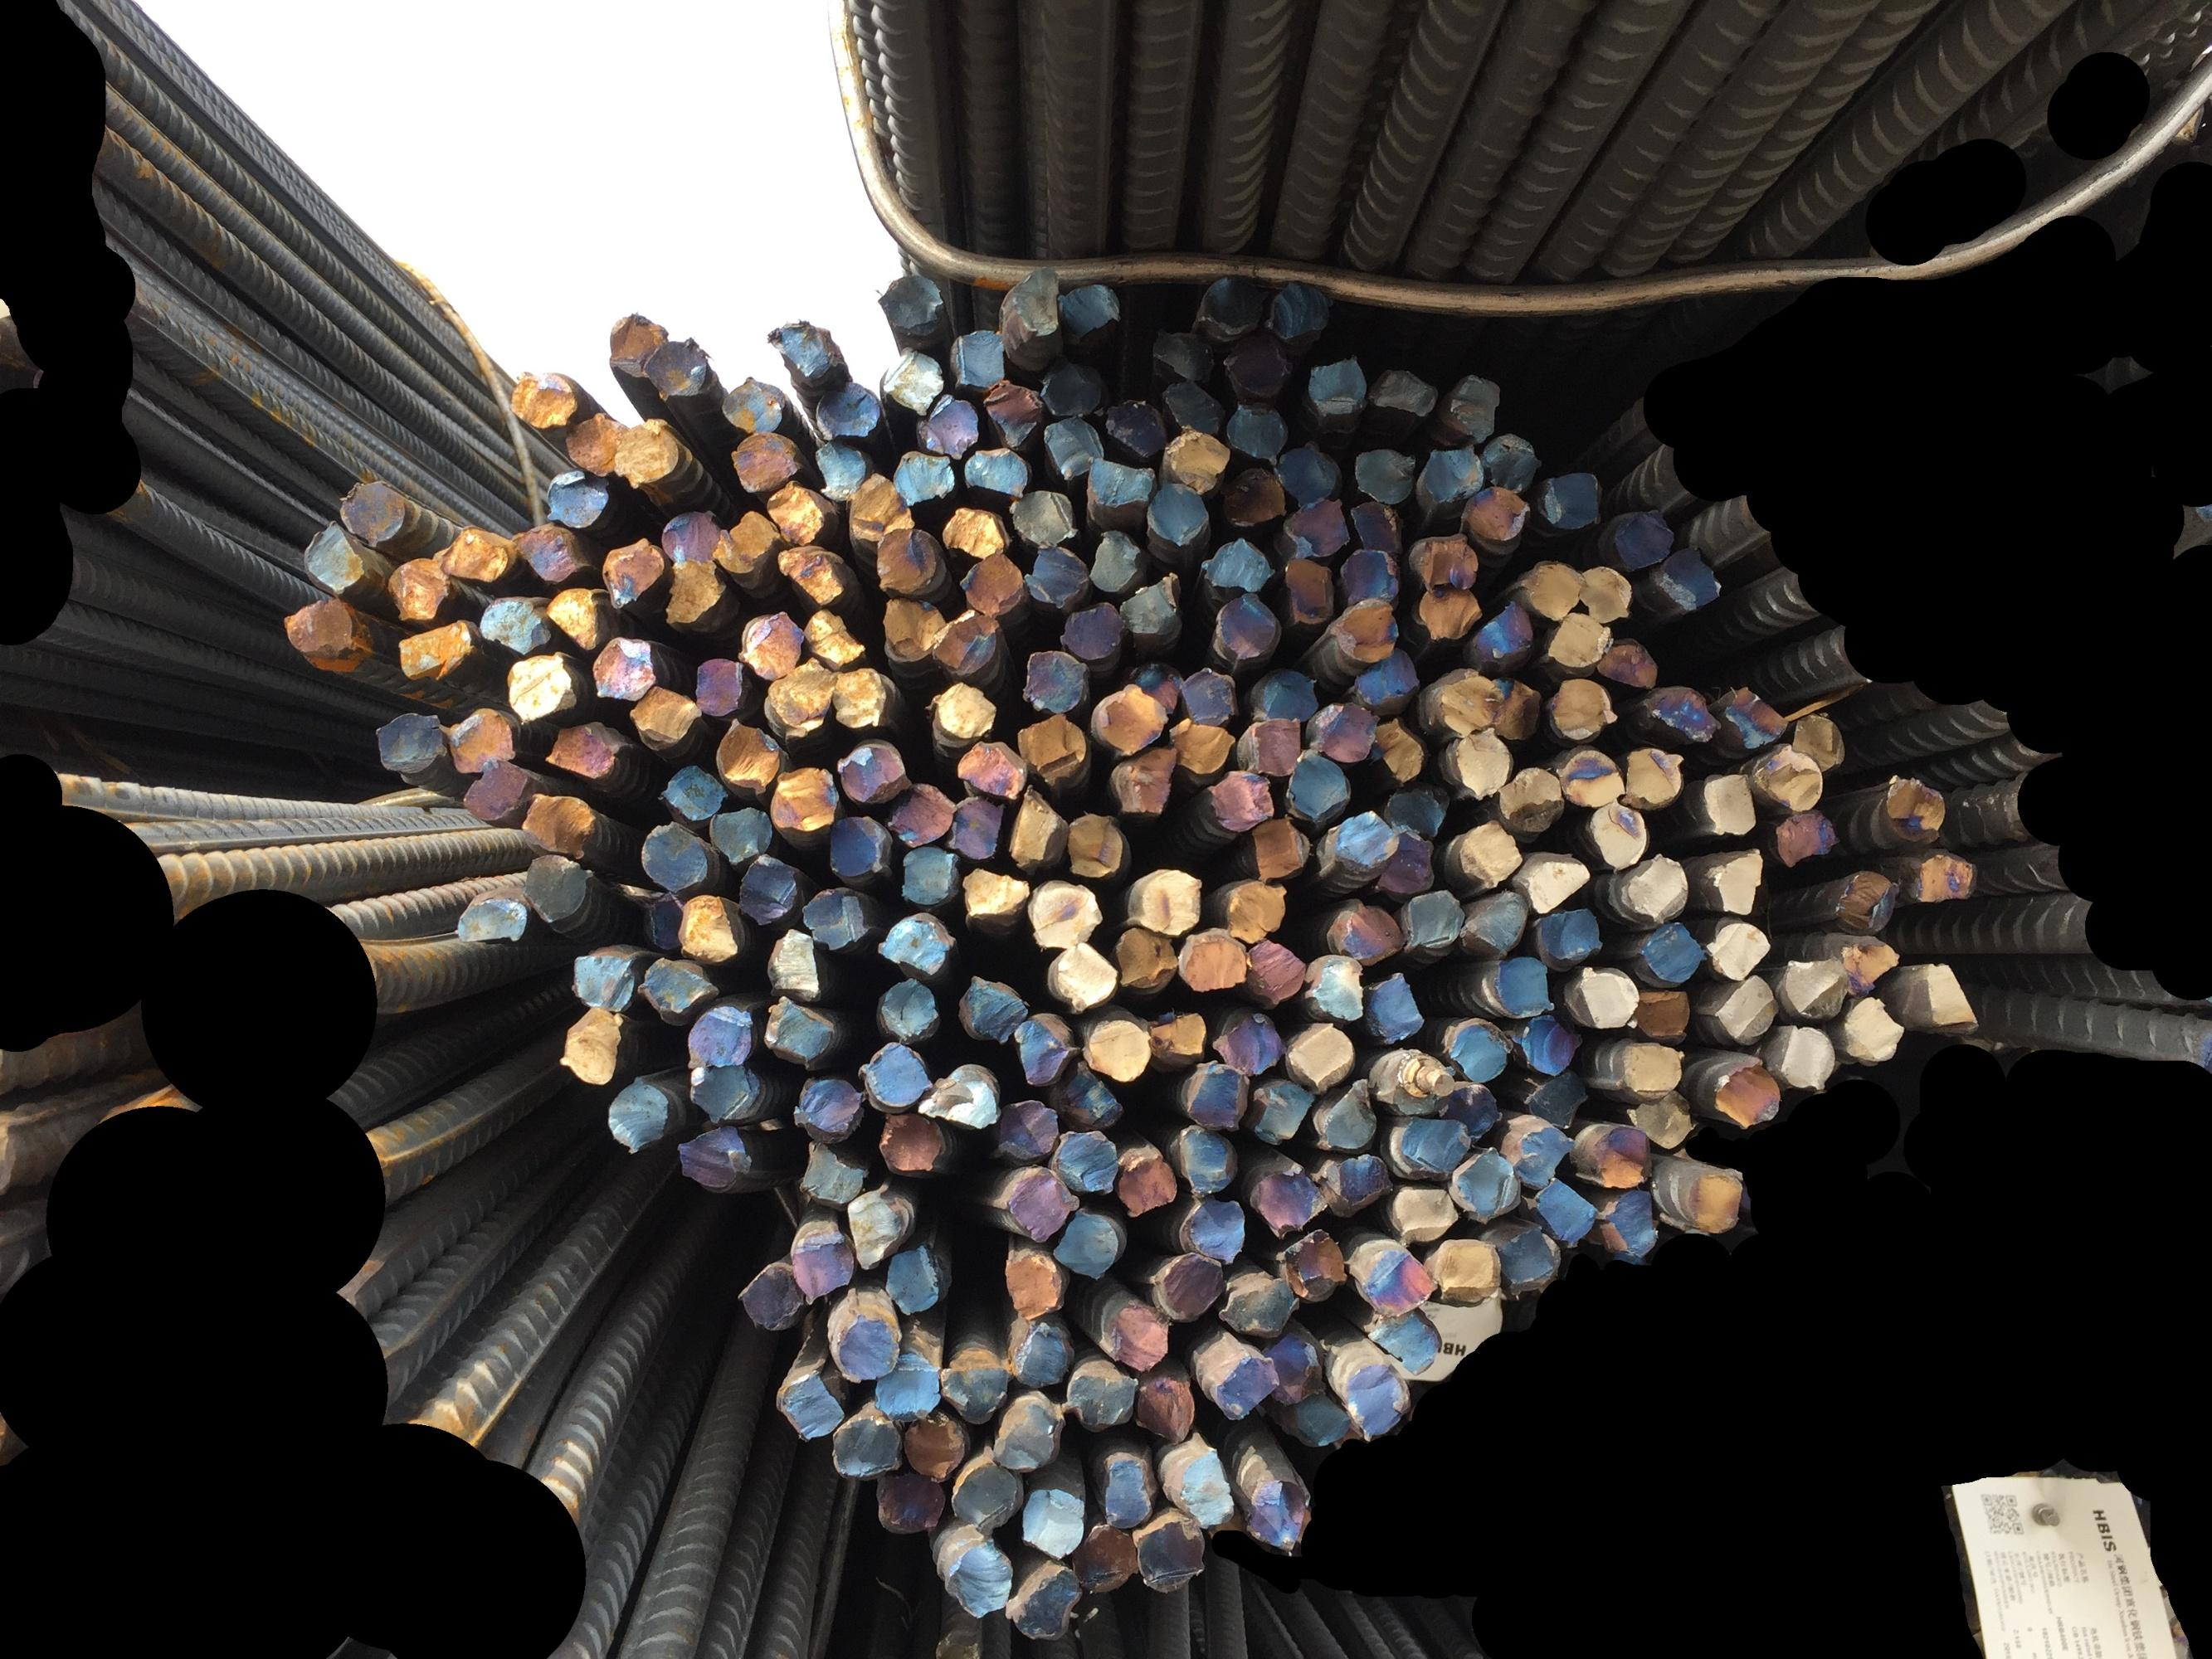bar: (762, 657, 837, 746), (762, 993, 844, 1072), (1246, 1155, 1328, 1234), (941, 1535, 1013, 1622), (1339, 1356, 1410, 1443), (636, 951, 718, 1026), (281, 596, 366, 667), (1001, 1164, 1077, 1243), (1016, 711, 1091, 791), (875, 906, 959, 978), (856, 1037, 933, 1114), (396, 617, 479, 687), (1354, 1243, 1435, 1314), (919, 1061, 1002, 1129), (845, 1183, 910, 1270), (640, 819, 716, 892), (950, 1455, 1023, 1532), (1048, 1056, 1124, 1129), (676, 1124, 755, 1195), (736, 1253, 807, 1331), (990, 1392, 1062, 1471), (830, 1302, 899, 1382), (605, 1072, 673, 1154), (525, 854, 598, 929), (612, 416, 685, 491), (502, 648, 575, 723), (300, 518, 371, 594), (774, 1364, 845, 1441), (1009, 1561, 1079, 1640), (1147, 1251, 1225, 1321), (1454, 1147, 1523, 1225), (664, 556, 732, 636), (713, 718, 781, 798), (790, 1220, 854, 1304), (687, 1065, 777, 1124), (1063, 1358, 1137, 1431), (628, 685, 702, 756), (1276, 1227, 1347, 1302), (558, 1009, 628, 1086), (929, 608, 1006, 678), (1377, 1047, 1454, 1117), (835, 739, 913, 807), (940, 1345, 1008, 1424), (1138, 1513, 1204, 1593), (1218, 1272, 1299, 1338), (1313, 1150, 1393, 1216), (776, 544, 858, 608), (1639, 680, 1720, 744), (1095, 1446, 1157, 1530), (1171, 1443, 1234, 1527), (1356, 1310, 1440, 1373), (1028, 877, 1102, 948), (1210, 1006, 1283, 1077), (711, 509, 781, 584), (884, 1241, 953, 1316), (1710, 1053, 1780, 1127), (762, 925, 830, 1002), (1494, 1222, 1562, 1298), (519, 791, 598, 857), (1133, 1364, 1199, 1443), (544, 718, 624, 782), (431, 525, 518, 584), (1388, 1115, 1469, 1178), (793, 1072, 865, 1143), (1053, 1208, 1124, 1279), (1208, 1349, 1279, 1420), (336, 479, 410, 549), (1009, 786, 1070, 870), (1433, 1236, 1503, 1309), (1332, 896, 1405, 965), (373, 709, 448, 777), (800, 884, 875, 951), (1070, 1521, 1138, 1596), (1102, 1298, 1170, 1373), (1750, 742, 1825, 810), (763, 479, 840, 545), (1013, 1011, 1079, 1087), (1914, 960, 1980, 1037), (1245, 1471, 1307, 1551), (685, 1000, 757, 1070), (1130, 864, 1201, 934), (1619, 854, 1689, 925), (1877, 774, 1947, 845), (873, 1351, 941, 1424), (845, 472, 913, 545), (1023, 538, 1091, 612), (1046, 943, 1119, 1011), (1098, 681, 1166, 755), (1213, 591, 1281, 664), (1680, 1162, 1747, 1237), (767, 321, 845, 383), (446, 704, 516, 774), (959, 972, 1028, 1042), (1170, 1124, 1239, 1194), (770, 765, 838, 836), (1182, 1058, 1250, 1129), (1285, 1019, 1353, 1091), (1440, 1014, 1511, 1082), (462, 756, 535, 823), (1285, 748, 1351, 821), (1325, 809, 1398, 875), (514, 521, 591, 584), (607, 310, 669, 387), (643, 338, 713, 406), (736, 610, 804, 680), (676, 894, 744, 964), (570, 945, 640, 1012), (887, 777, 955, 847), (912, 392, 980, 462), (873, 528, 943, 596), (1084, 1011, 1152, 1080), (1178, 1194, 1246, 1263), (1454, 819, 1522, 889), (1710, 976, 1778, 1046), (1778, 953, 1848, 1021), (903, 1410, 969, 1481), (1110, 744, 1177, 816), (873, 1471, 947, 1535), (1262, 1330, 1327, 1403), (1314, 1075, 1379, 1148), (737, 852, 800, 927), (1598, 1188, 1661, 1263), (507, 369, 584, 430), (798, 1140, 866, 1208), (1546, 674, 1614, 742), (383, 554, 450, 624), (830, 666, 899, 732), (830, 1415, 899, 1481), (879, 1112, 948, 1178), (877, 272, 947, 338), (1020, 647, 1089, 713), (1004, 265, 1062, 345), (1020, 1486, 1084, 1558), (1250, 1075, 1314, 1147), (1429, 666, 1501, 730), (1565, 964, 1637, 1028), (1633, 918, 1705, 983), (1837, 993, 1902, 1065), (603, 537, 666, 610), (1002, 1246, 1065, 1319), (1532, 906, 1607, 967), (880, 598, 947, 666), (1051, 1127, 1117, 1195), (1222, 878, 1288, 946), (542, 465, 612, 530), (657, 762, 727, 826), (1008, 1316, 1072, 1385), (1449, 725, 1513, 795), (1520, 849, 1590, 913), (880, 345, 943, 416), (1222, 333, 1293, 396), (953, 739, 1027, 800), (1116, 1143, 1177, 1216), (1121, 570, 1182, 643), (1776, 1023, 1837, 1096), (983, 375, 1042, 450), (877, 976, 943, 1042), (1163, 425, 1229, 491), (1265, 277, 1332, 343), (591, 636, 659, 701), (959, 552, 1027, 617), (1178, 929, 1246, 993), (1145, 483, 1210, 551), (1332, 596, 1400, 660), (1539, 465, 1604, 533), (1520, 1066, 1588, 1131), (1834, 870, 1902, 934), (1658, 542, 1720, 612), (1499, 763, 1562, 833), (1532, 1176, 1595, 1246), (1625, 1087, 1694, 1150), (1039, 354, 1110, 415), (1067, 809, 1128, 880), (1367, 359, 1438, 420), (478, 594, 551, 653), (727, 432, 800, 491), (1443, 369, 1503, 443), (1829, 932, 1902, 992), (1208, 767, 1274, 831), (1374, 829, 1440, 894), (1419, 444, 1483, 511), (1722, 681, 1787, 748), (1462, 890, 1527, 957), (1508, 1124, 1574, 1188), (1705, 915, 1771, 979), (565, 410, 628, 477), (830, 814, 892, 882), (995, 1096, 1058, 1164), (1056, 599, 1126, 660), (927, 680, 997, 741), (1388, 1183, 1457, 1244), (1555, 744, 1625, 805), (1008, 490, 1079, 549), (1365, 972, 1424, 1044), (1440, 1080, 1503, 1147), (1250, 816, 1313, 882), (1489, 953, 1555, 1016), (1588, 1124, 1651, 1190), (1307, 350, 1368, 418), (1405, 889, 1466, 957), (1410, 528, 1478, 589), (1586, 802, 1647, 870), (959, 864, 1028, 924), (1306, 951, 1365, 1021), (1246, 666, 1318, 723), (1306, 702, 1377, 760), (1199, 537, 1274, 591), (1056, 282, 1121, 345), (1276, 441, 1340, 504), (1609, 505, 1673, 568), (722, 371, 788, 432), (1039, 416, 1105, 477), (1116, 925, 1177, 992), (1170, 716, 1236, 777), (1616, 1039, 1682, 1100), (802, 608, 870, 667), (1705, 847, 1764, 915), (1625, 742, 1682, 812), (709, 803, 772, 866), (547, 586, 608, 650), (1245, 938, 1306, 1002), (1354, 645, 1419, 706), (1520, 556, 1584, 617), (1198, 275, 1264, 335), (1518, 1016, 1584, 1075), (814, 382, 882, 439), (1281, 498, 1349, 556), (1769, 809, 1837, 866), (1374, 713, 1429, 782), (1461, 484, 1530, 540), (1700, 769, 1755, 838), (1910, 850, 1980, 906), (1225, 401, 1288, 462), (896, 845, 960, 904), (891, 448, 955, 507), (1220, 467, 1285, 526), (1414, 582, 1480, 640), (948, 793, 1004, 861), (1088, 455, 1156, 511), (962, 446, 1034, 498), (1105, 396, 1166, 457), (1241, 714, 1302, 775), (1290, 1389, 1353, 1448), (943, 504, 1011, 558), (1281, 556, 1335, 624), (1147, 1004, 1206, 1065), (1178, 666, 1239, 725), (457, 890, 528, 941), (1546, 612, 1609, 669), (1161, 380, 1225, 436), (1337, 547, 1401, 603), (1353, 446, 1417, 502), (1487, 674, 1539, 742), (1382, 782, 1452, 833), (1480, 432, 1539, 491), (661, 507, 722, 565), (1119, 659, 1180, 716), (1089, 528, 1145, 591), (1597, 636, 1659, 692), (1792, 709, 1848, 772), (812, 439, 866, 502), (1149, 328, 1213, 380), (1480, 598, 1532, 662), (948, 328, 1004, 387), (692, 657, 746, 718), (1579, 561, 1632, 624), (1633, 986, 1689, 1040), (640, 890, 685, 955), (1349, 500, 1405, 551)
